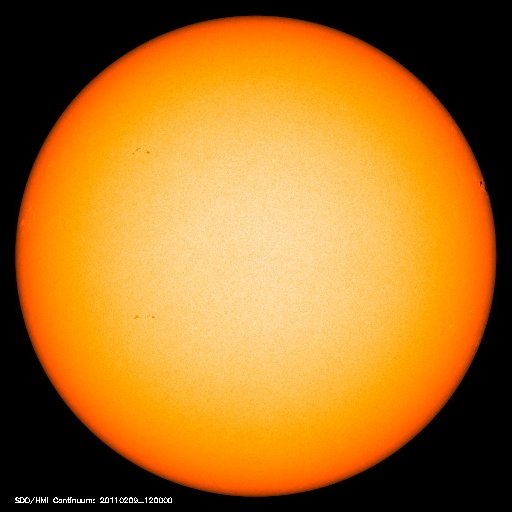sunspot: (120, 139, 160, 162), (125, 305, 161, 327), (469, 172, 493, 199)
